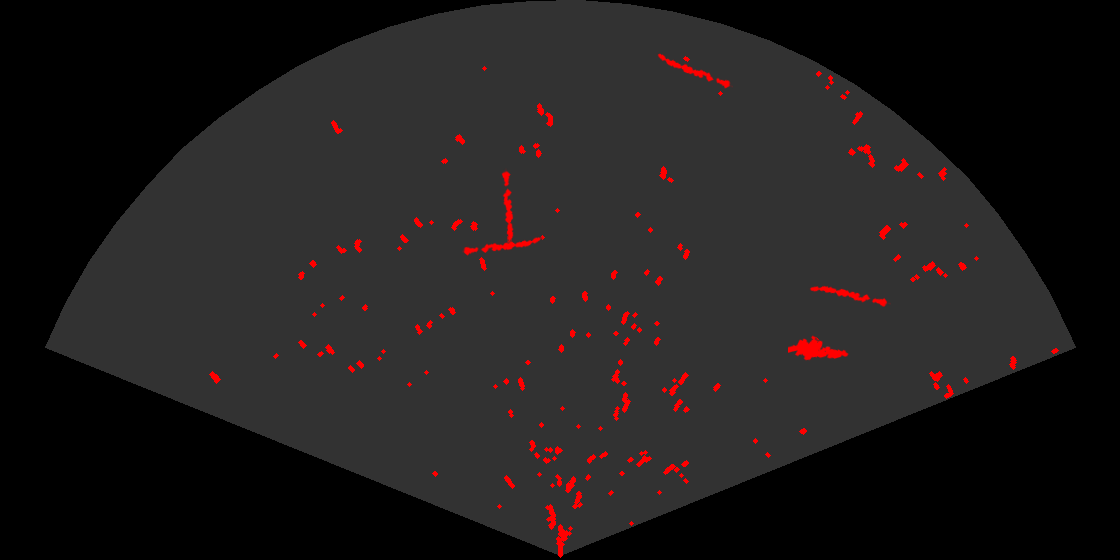chain: (656, 52, 733, 90), (808, 284, 891, 308), (462, 236, 543, 257), (500, 168, 515, 250)
frogman: (788, 334, 849, 362)
